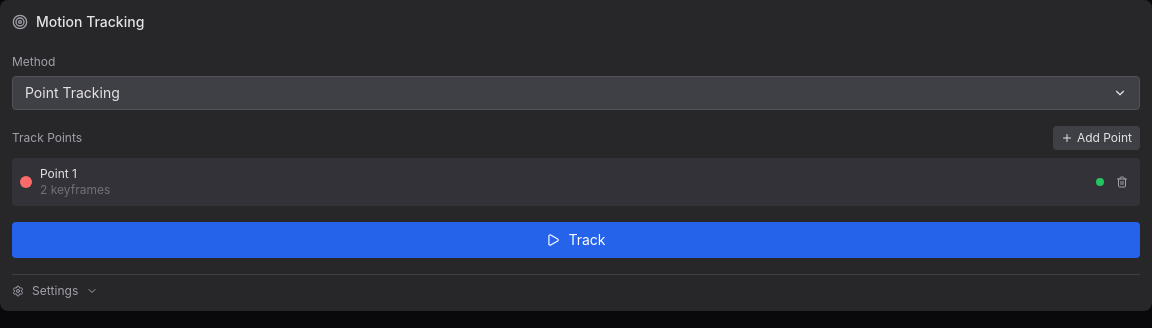
Test: MotionTrackingControl › method selection › should open method dropdown when clicked
Step 1. Click the button with test id "method-selector" → (72, 92), box [12,76,1140,110]
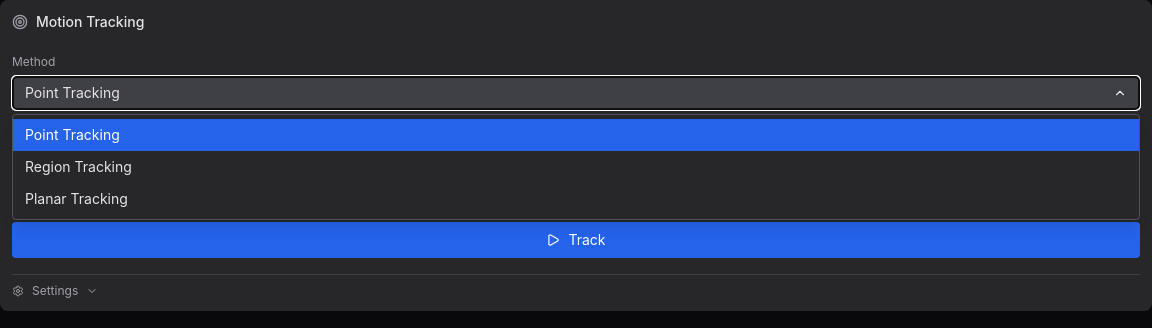
Expected: the list is shown, [12,114,1140,220]
